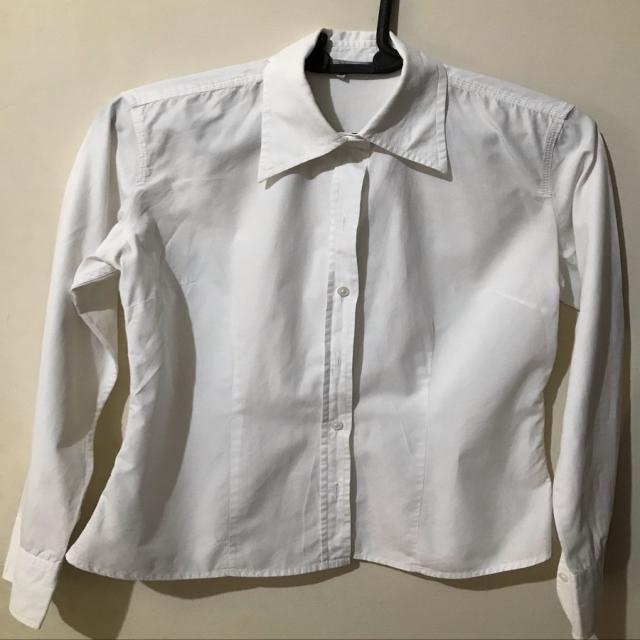long sleeve shirt: (0, 20, 630, 640)
